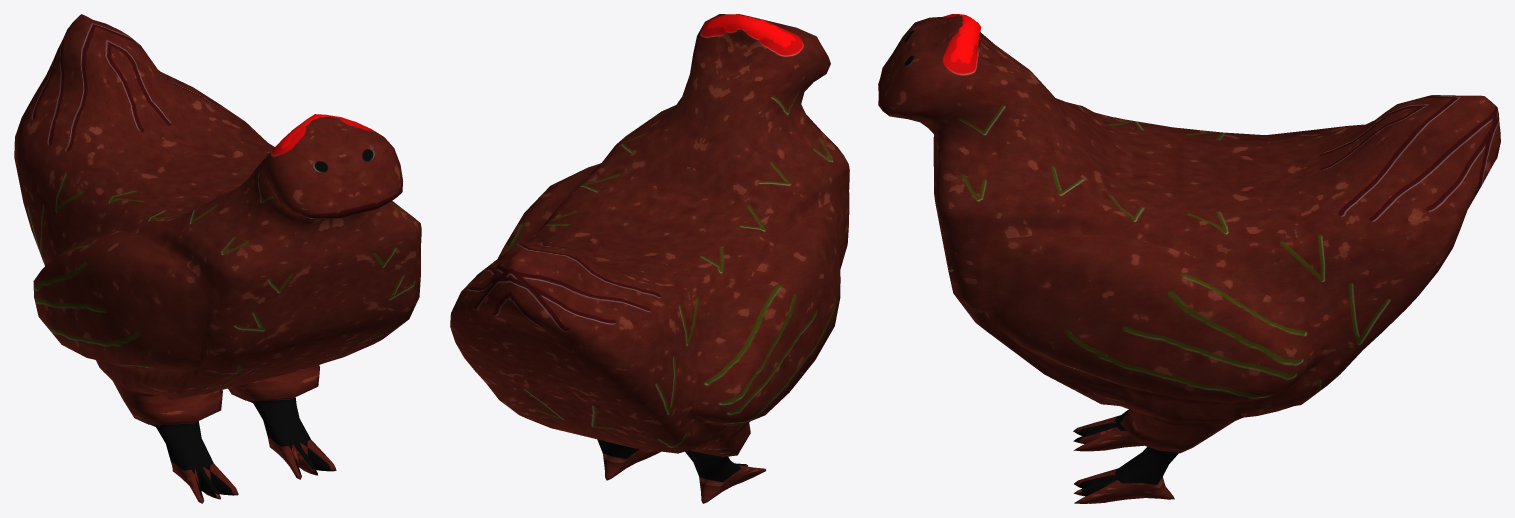
File: chickenAnimated.FBX
The picture shows the model from 3 angles, left to right: view 1: azimuth 30°, elevation 25°; view 2: azimuth 150°, elevation 25°; view 3: azimuth 270°, elevation 25°; orthographic projection. The views are drawn at different scales.
Visible parts, largest first — view 1: Chicken; view 2: Chicken; view 3: Chicken.
Part boxes in pixels (x1=…): Chicken: x1=14, y1=14, x2=421, y2=503; Chicken: x1=450, y1=14, x2=849, y2=503; Chicken: x1=878, y1=14, x2=1500, y2=503.
Bounding box in the file's own units: 34.76 × 48.18 × 59.96.
